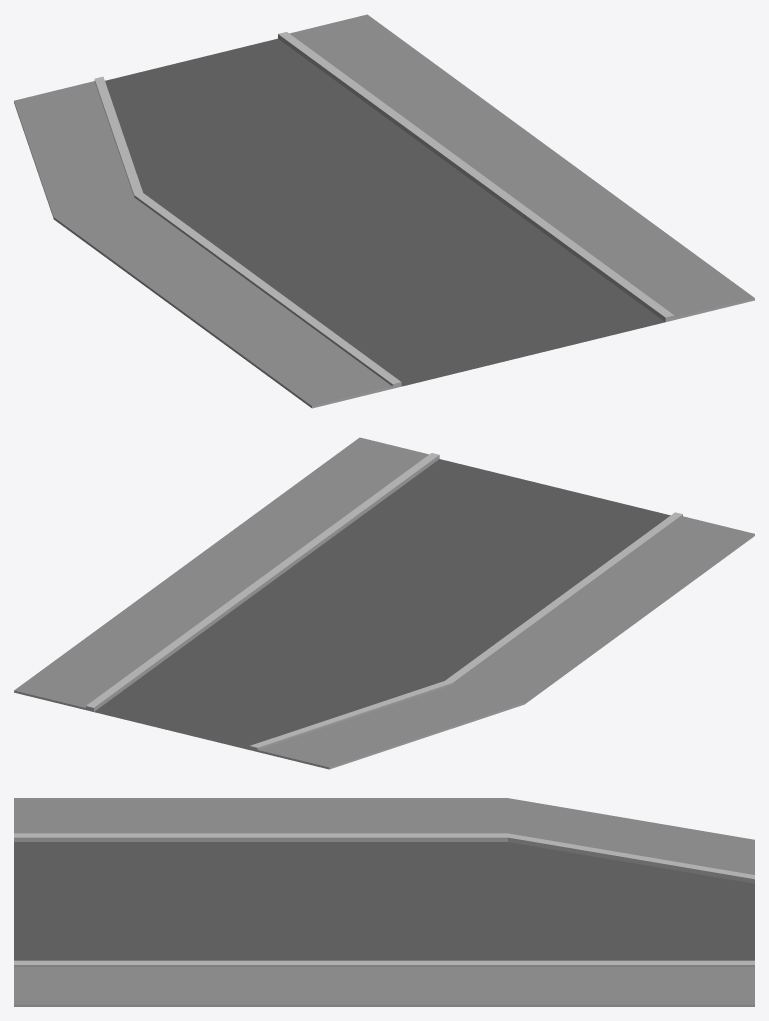
The model's file is street_3to2_r.fbx.
The picture shows the model from 3 angles, top to bottom: view 1: azimuth 30°, elevation 25°; view 2: azimuth 150°, elevation 25°; view 3: azimuth 270°, elevation 25°; orthographic projection. The views are drawn at different scales.
Parts seen in each view (by area): view 1: street_3to2_r; view 2: street_3to2_r; view 3: street_3to2_r.
Boxes of the visible parts, x1,y1,x2,y2 form: street_3to2_r: [14, 14, 754, 408]; street_3to2_r: [14, 437, 754, 769]; street_3to2_r: [14, 798, 754, 1006].
Bounding box in the file's own units: 19.8 × 0.2 × 30.01.
